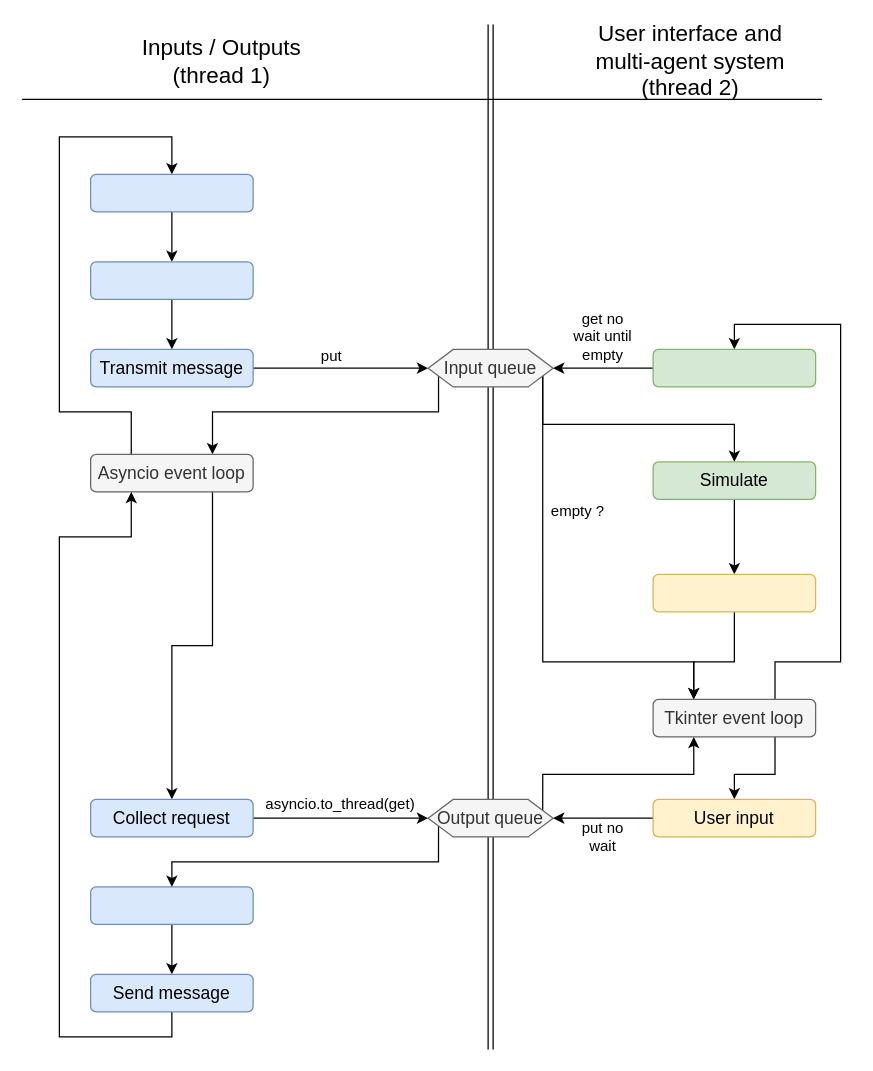
Some shapes in this 873 by 1071 pixel diagram are drawn without their labels. Here are the shapes that lost their labels. From the top down, the centre of each, then its label:
(171,192): Receive message
(171,280): Decode message
(734,367): Collect updates
(734,592): Refresh display
(171,905): Encode message
